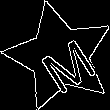M_NW: (25, 23, 94, 90)
